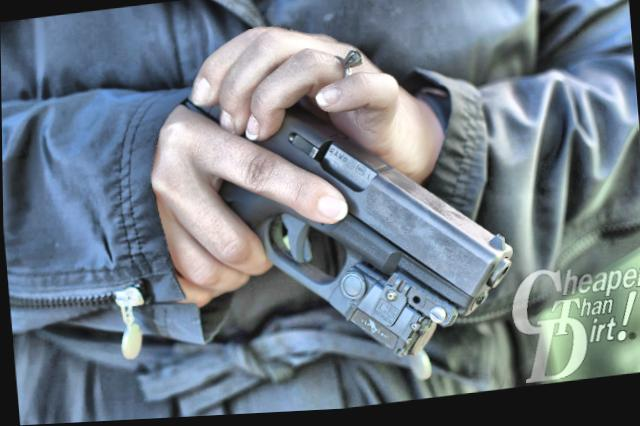pistol: (166, 49, 514, 406)
